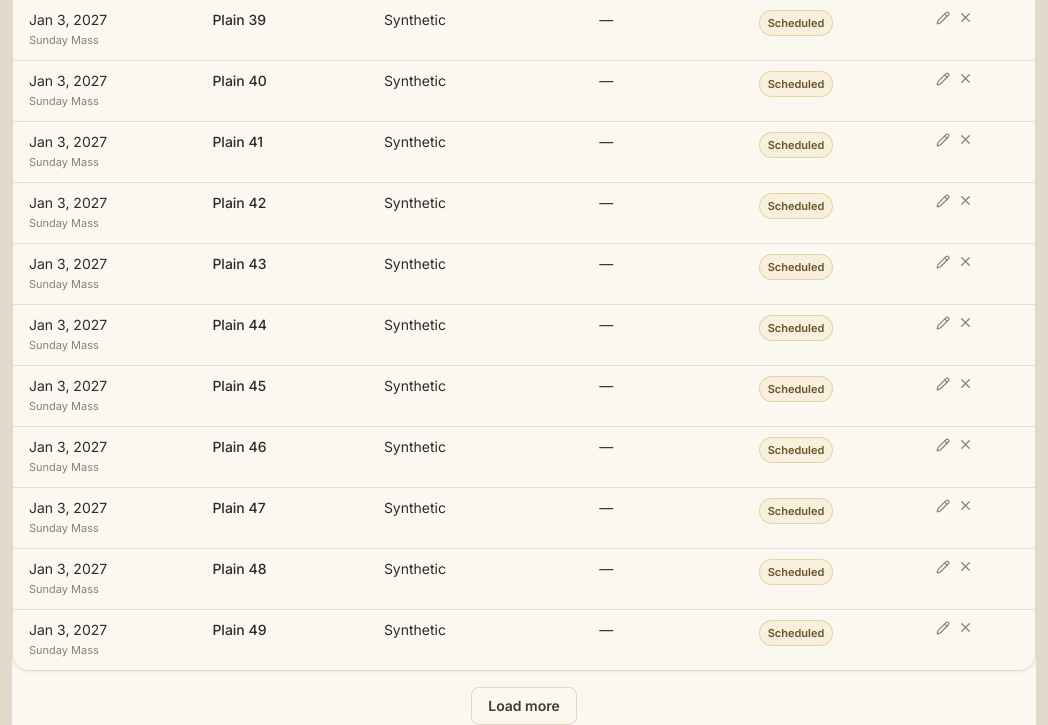
it: R313-1 list-result ownership › TARS repro: old unfiltered Load more resolving after the filtered first page does not append or set done
(page scrolled)
Click the button "Load more": [524, 706] box [471,687,577,724]
(page scrolled)
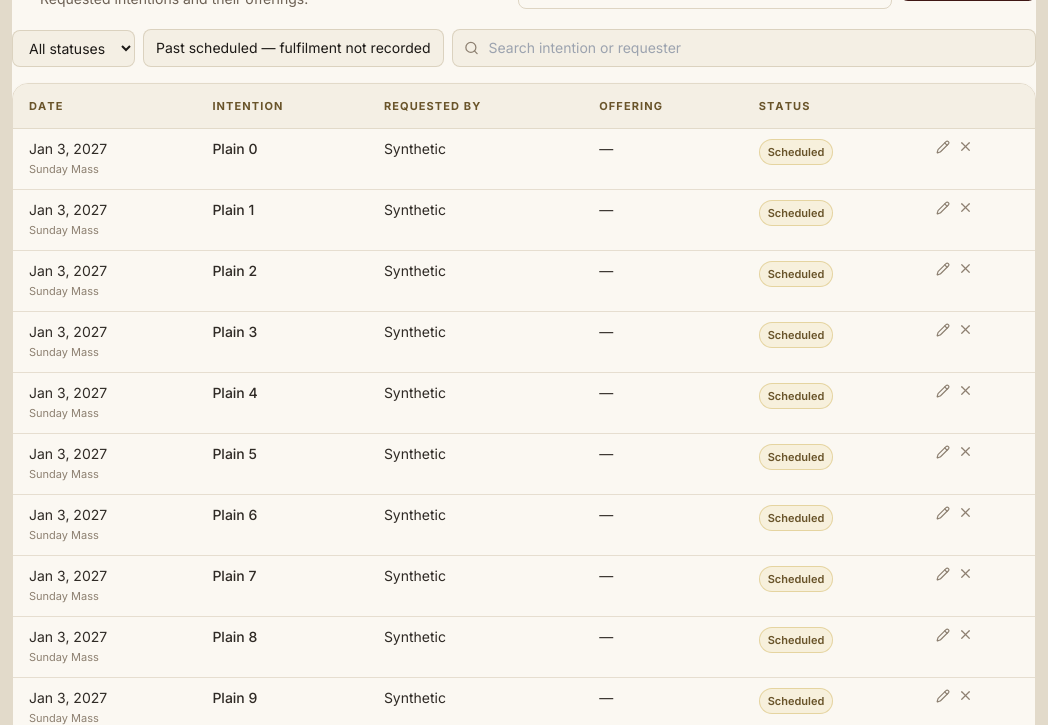
Click the button with test id "mi-past-filter": [293, 48] box [143,29,444,67]
(page scrolled)
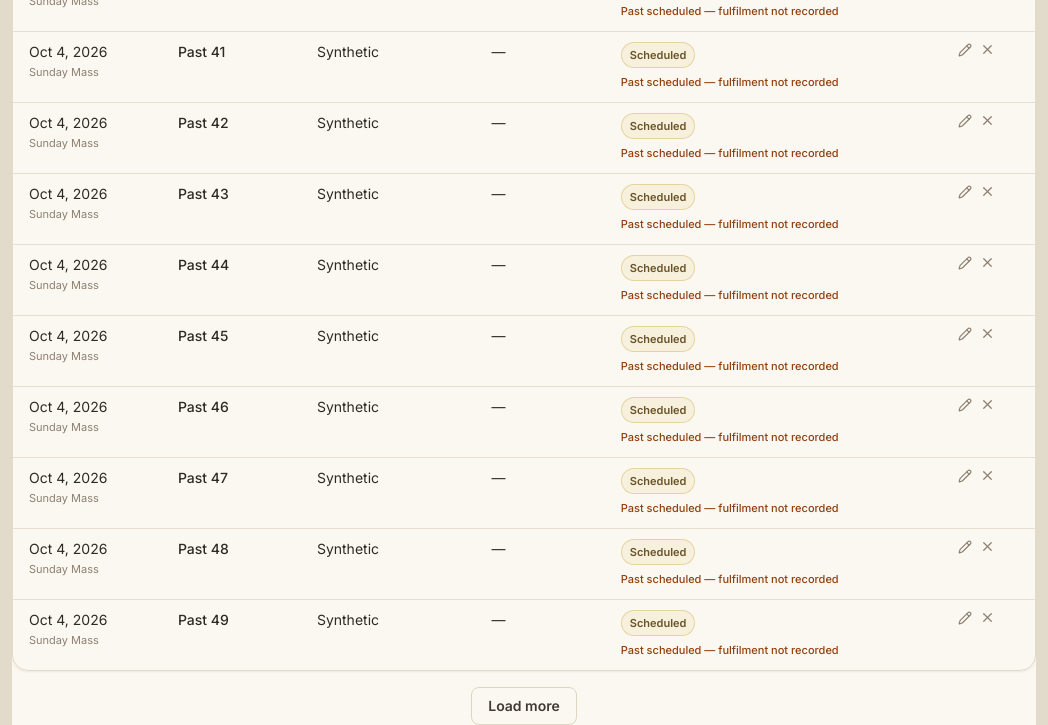
Expected: the text "Plain " is gone
Expected: the button "Load more" is enabled, [471,687,577,724]
